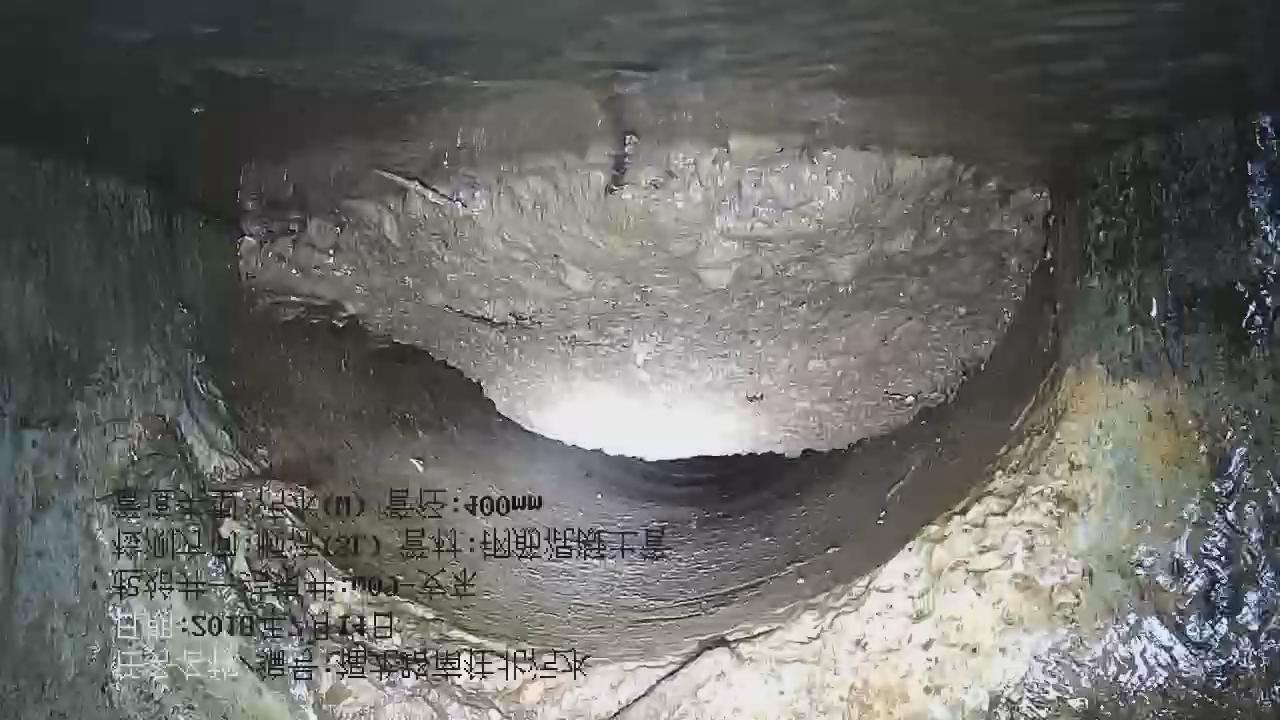CJ: (241, 140, 1040, 461)
